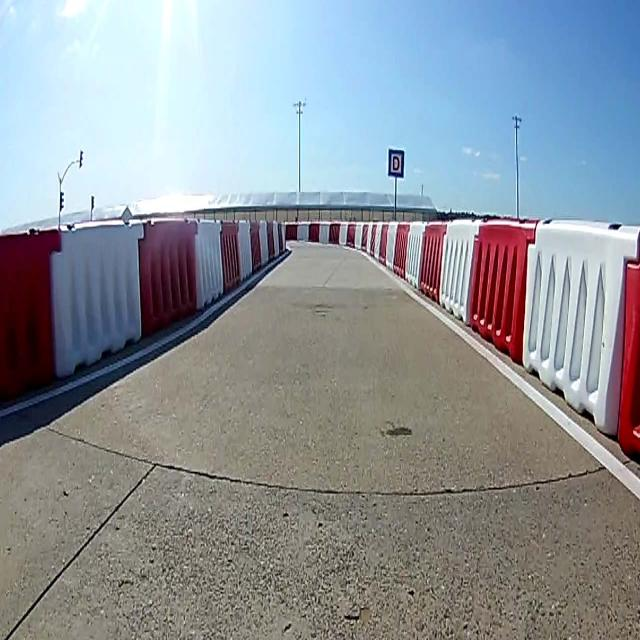durak: (388, 146, 406, 178)
